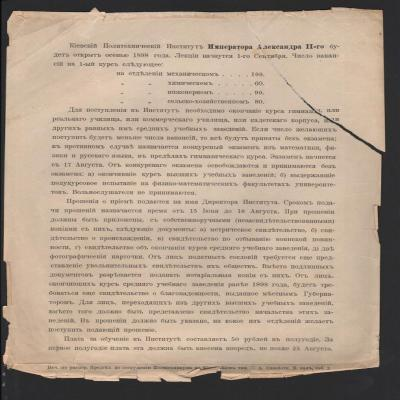document: (5, 7, 384, 381)
